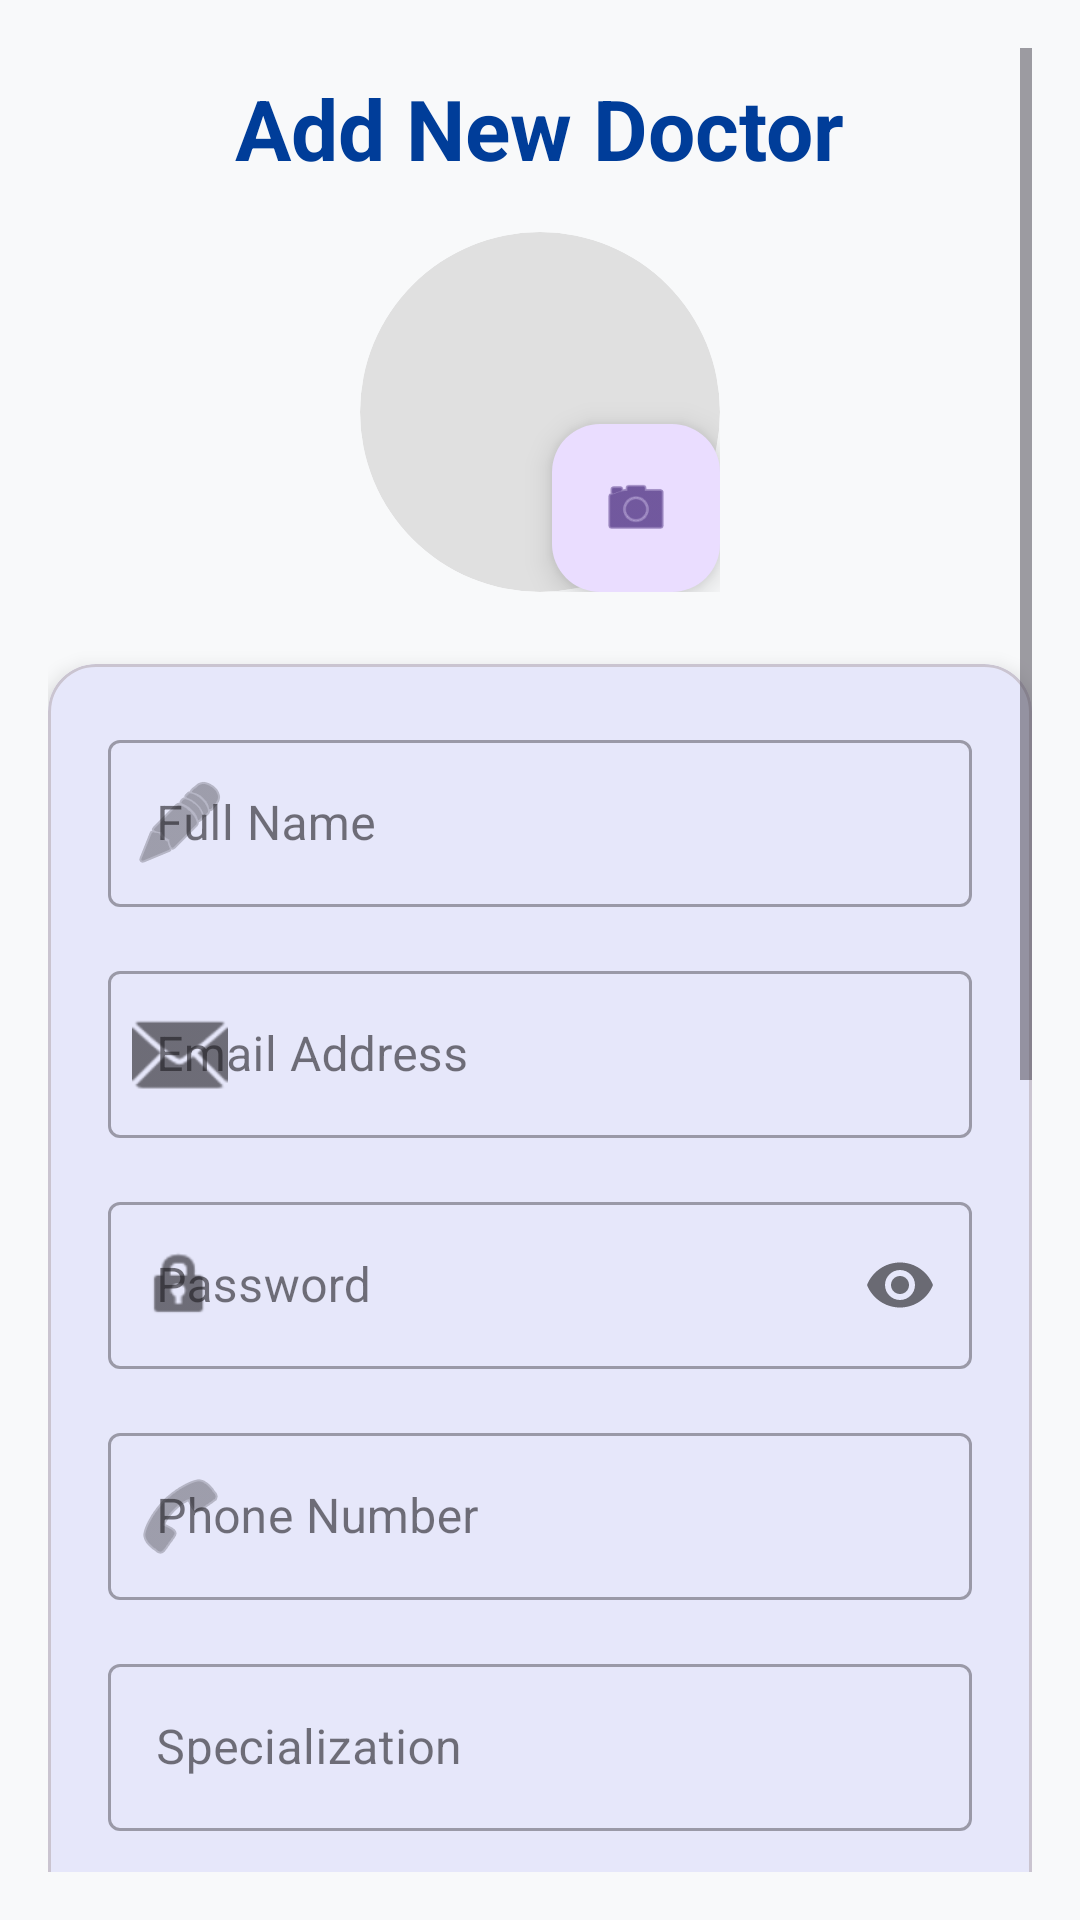

Named icons in this screenshot (1080 x 1920) and their centers, (x=x, y=y):
Upload Photo: (x=636, y=508)
